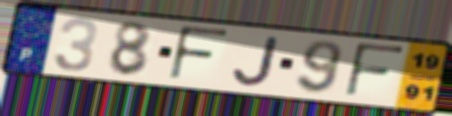3: (53, 15, 100, 72)
8: (109, 20, 156, 78)
9: (292, 39, 344, 96)
F: (165, 24, 232, 84), (342, 41, 408, 101)
J: (230, 34, 283, 88)
